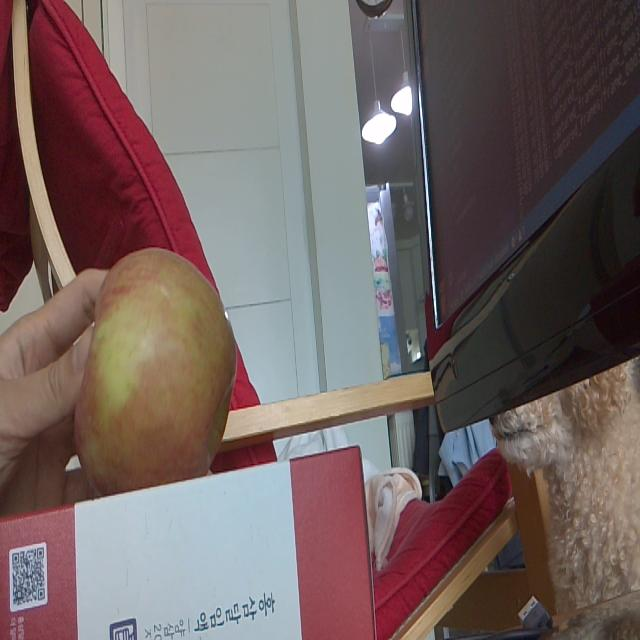apple: (74, 247, 236, 501)
